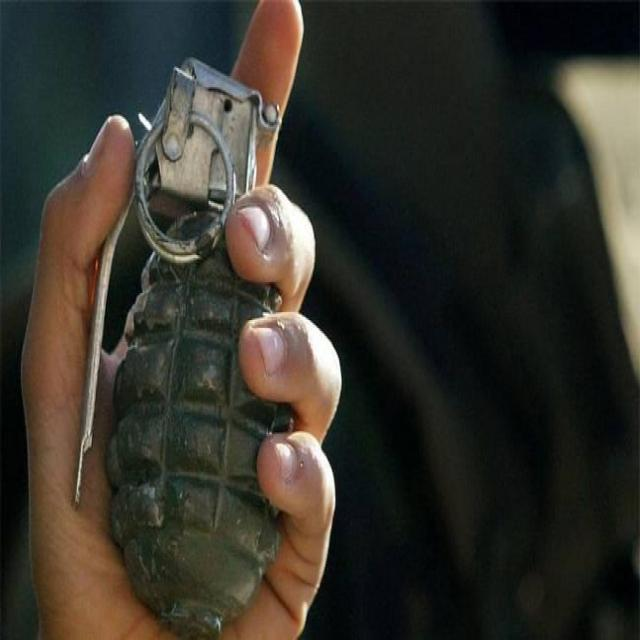grenade: (69, 43, 297, 640)
